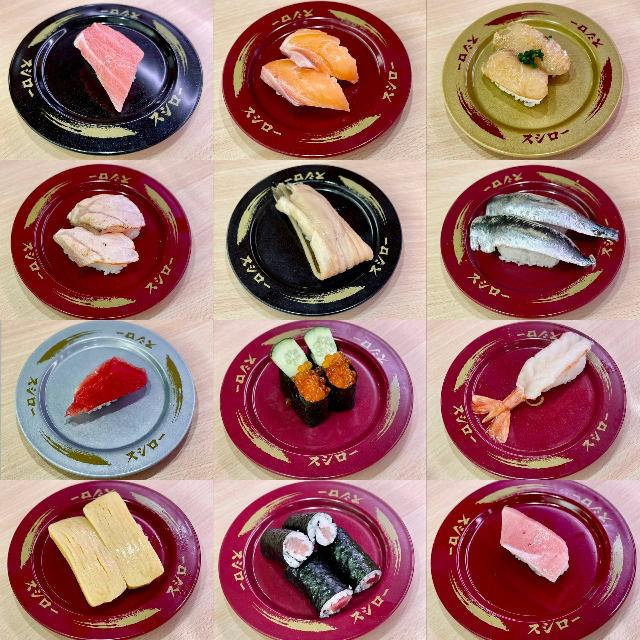janback: (1, 20, 200, 167), (213, 181, 401, 318)
jangold: (462, 35, 607, 165)
janred: (218, 491, 420, 637), (433, 322, 623, 470), (444, 180, 637, 307), (17, 489, 203, 620), (448, 497, 640, 613), (226, 331, 386, 469), (11, 177, 180, 296), (240, 27, 398, 139)
janwhite: (44, 314, 196, 462)
